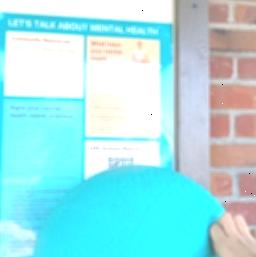algae: (30, 165, 244, 257)
